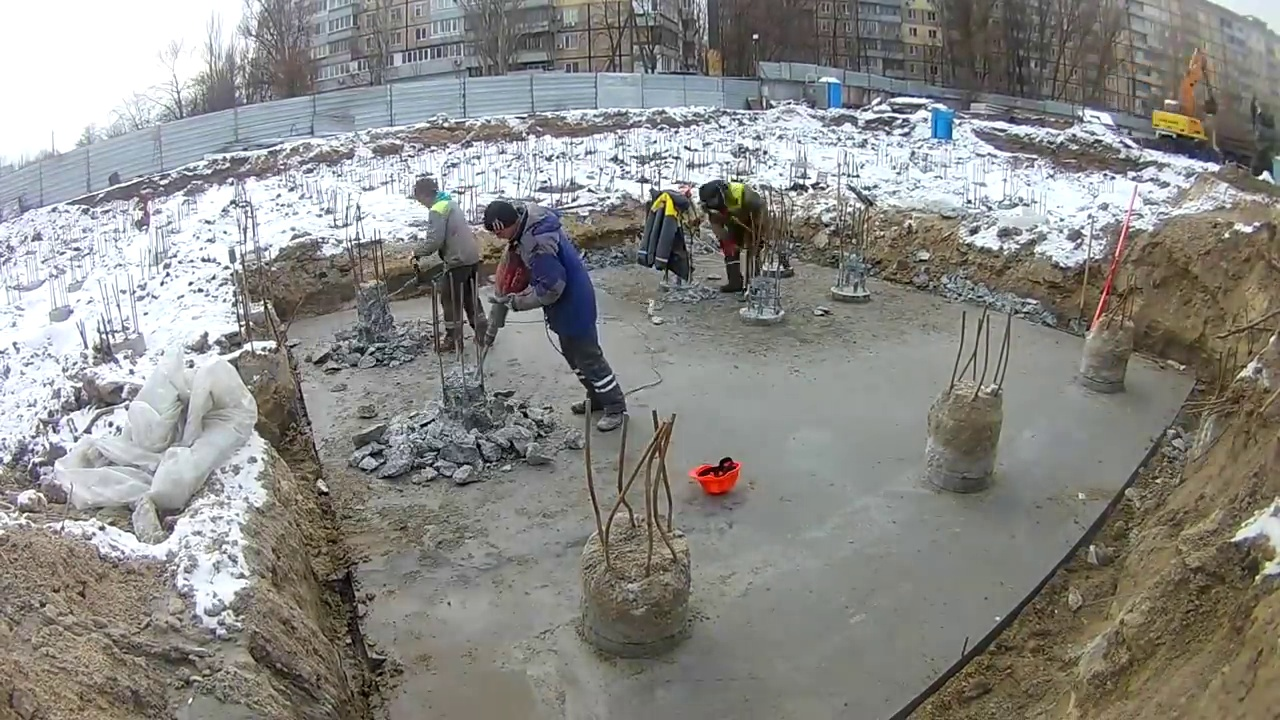helmet: (688, 457, 742, 497)
helmet-off: (486, 199, 530, 248), (698, 181, 736, 212), (413, 179, 446, 211)
person: (485, 197, 628, 431), (413, 180, 493, 353), (697, 179, 769, 293)
